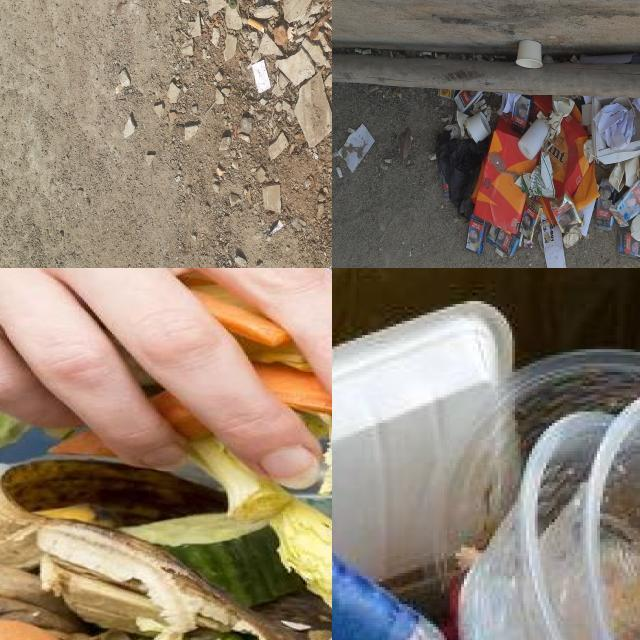Cig_bud: (247, 18, 272, 33)
Cig_pack: (609, 180, 640, 227), (549, 195, 582, 233), (519, 199, 542, 246), (486, 225, 519, 256), (466, 216, 486, 254), (512, 95, 531, 134), (618, 229, 640, 259), (455, 90, 483, 113), (597, 199, 614, 231)
Disposable: (462, 350, 640, 640), (332, 303, 517, 581)
Garbage: (332, 303, 640, 640), (0, 480, 332, 640), (435, 86, 640, 268), (516, 40, 549, 69), (466, 222, 486, 252)
Plastic_Bag: (436, 132, 492, 218), (532, 141, 533, 143)
Plastic_wraper: (267, 220, 285, 238)
Thermocol: (518, 118, 548, 160)
contaminated_waste: (462, 402, 640, 640)
